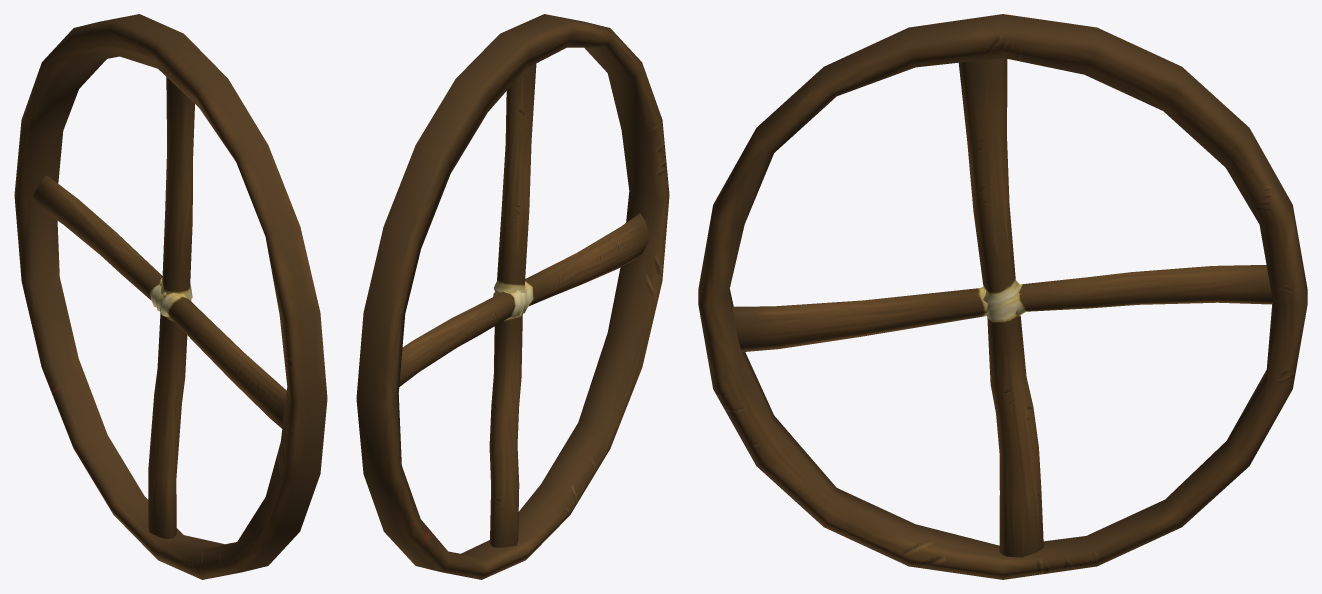
Rendered from Woodwindow.fbx.
3 renders of one model, left to right at view 1: azimuth 30°, elevation 25°; view 2: azimuth 150°, elevation 25°; view 3: azimuth 270°, elevation 25°, orthographic. The views are drawn at different scales.
Parts seen in each view (by area): view 1: woodwindow; view 2: woodwindow; view 3: woodwindow.
Part boxes in pixels (bbox=[...]): woodwindow: bbox=[14, 14, 327, 579]; woodwindow: bbox=[356, 14, 669, 579]; woodwindow: bbox=[698, 14, 1307, 579].
Bounding box in the file's own units: 0.0197 × 0.2693 × 0.2693.
